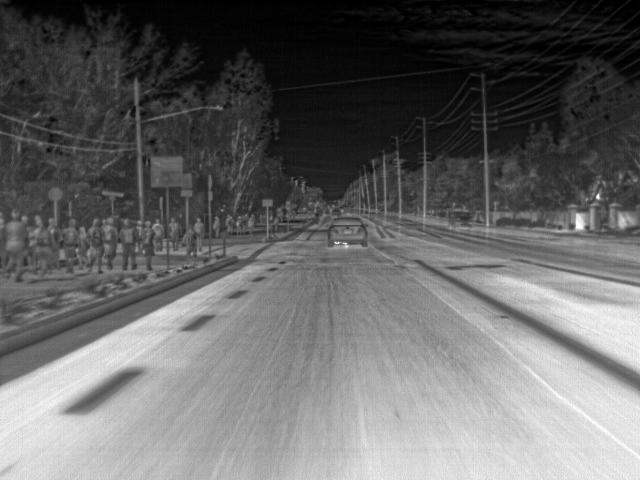car: (328, 218, 367, 248), (445, 212, 472, 230), (330, 204, 343, 216)
person: (6, 211, 26, 282), (34, 220, 54, 278), (60, 220, 78, 276), (87, 218, 103, 274), (121, 218, 138, 270), (102, 216, 117, 271), (77, 224, 90, 270), (144, 230, 158, 267), (183, 224, 198, 255), (168, 216, 180, 250), (233, 216, 245, 235), (194, 214, 206, 232), (213, 215, 223, 236), (225, 212, 234, 234), (28, 214, 40, 228), (150, 218, 164, 230), (137, 220, 150, 232), (245, 214, 255, 228)
